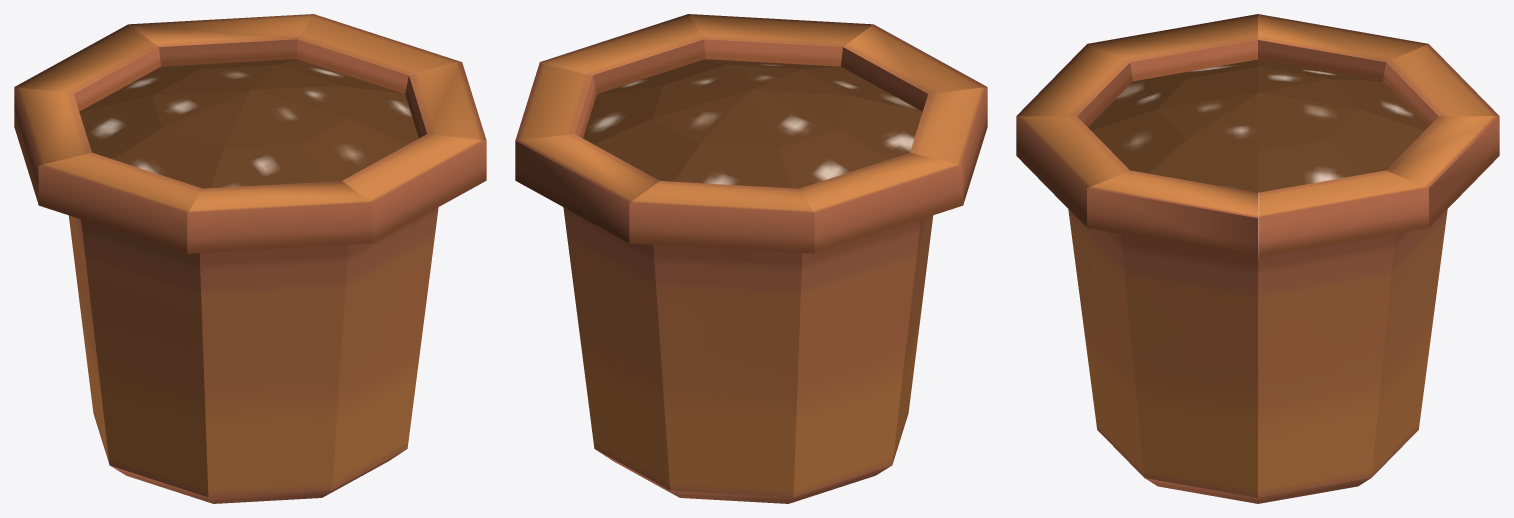
File: Pot.fbx
3 renders of one model, left to right at view 1: azimuth 30°, elevation 25°; view 2: azimuth 150°, elevation 25°; view 3: azimuth 270°, elevation 25°, orthographic.
Parts seen in each view (by area): view 1: Pot_base; view 2: Pot_base; view 3: Pot_base.
Part boxes in pixels (bbox=[...]): Pot_base: bbox=[14, 14, 486, 503]; Pot_base: bbox=[515, 14, 987, 503]; Pot_base: bbox=[1016, 14, 1499, 503].
Size of the model in its own units: 33.54 by 33.54 by 26.9.
1 material, 1 textured.
